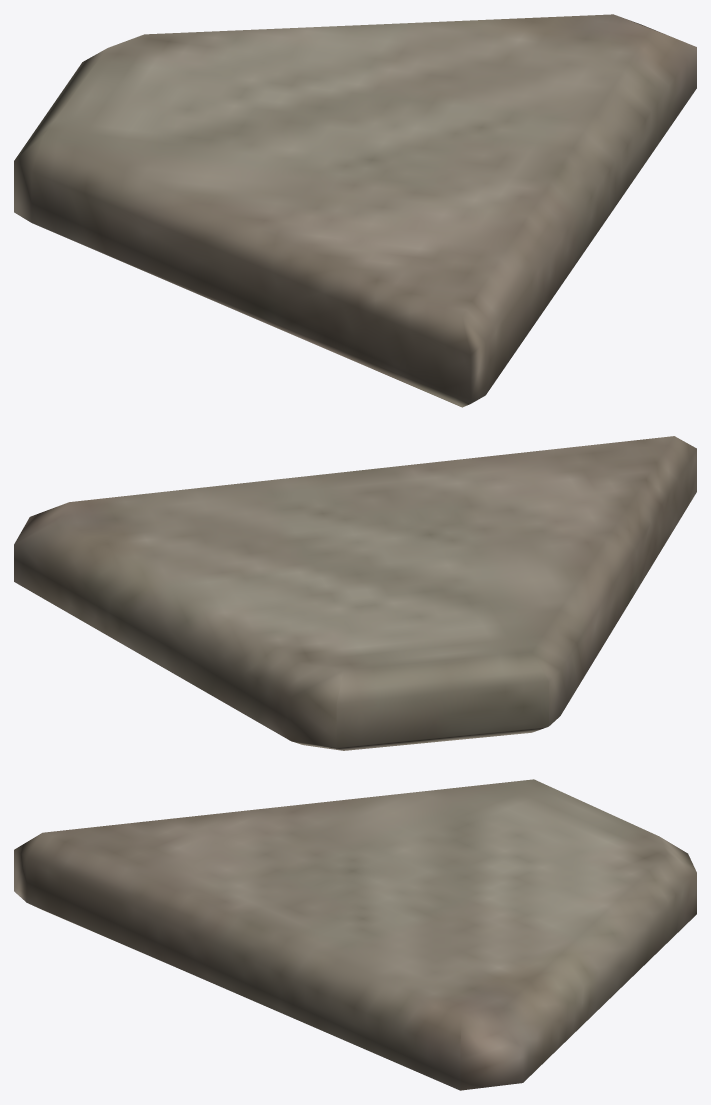
File: tile_c.glb
3 renders of one model, top to bottom at view 1: azimuth 30°, elevation 25°; view 2: azimuth 150°, elevation 25°; view 3: azimuth 270°, elevation 25°, orthographic. The views are drawn at different scales.
Visible parts, largest first — view 1: tile_c; view 2: tile_c; view 3: tile_c.
Boxes of the visible parts, x1,y1,x2,y2 form: tile_c: (14, 14, 696, 407); tile_c: (14, 436, 696, 750); tile_c: (14, 779, 696, 1090).
Bounding box in the file's own units: 0.1808 × 0.0248 × 0.1988.
Materials: 1 (1 with a texture image).
